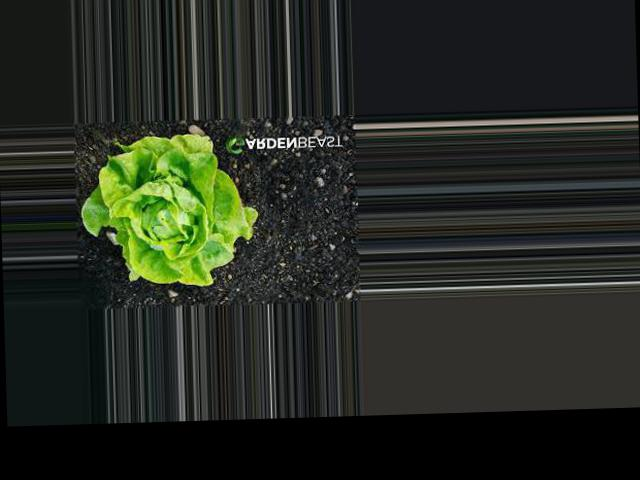lettuce: (93, 142, 252, 276)
